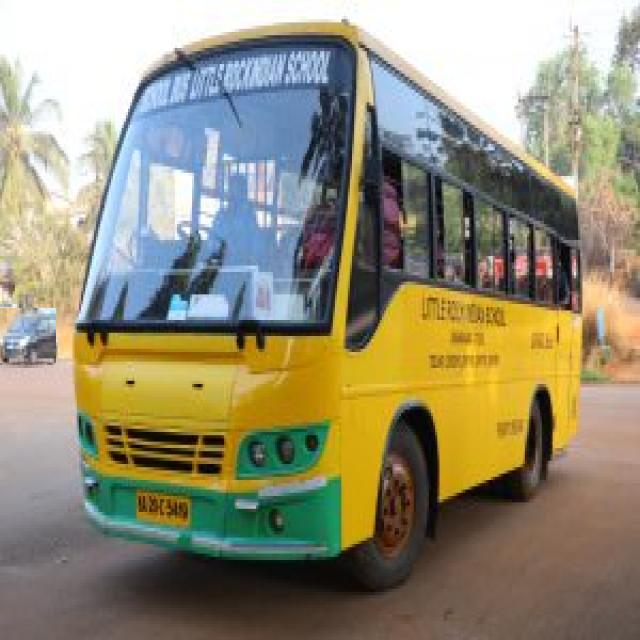bus: (74, 24, 581, 588)
car: (0, 309, 56, 363)
